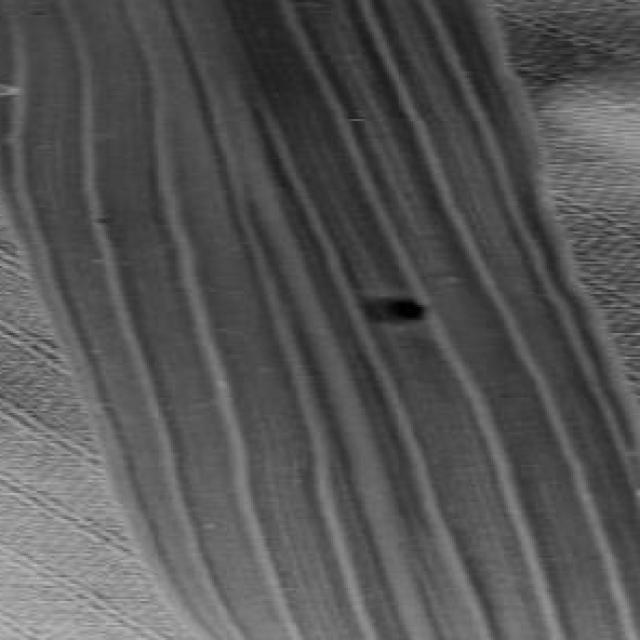Brown_Spot: (342, 288, 448, 344), (24, 6, 58, 26), (90, 212, 114, 234)
